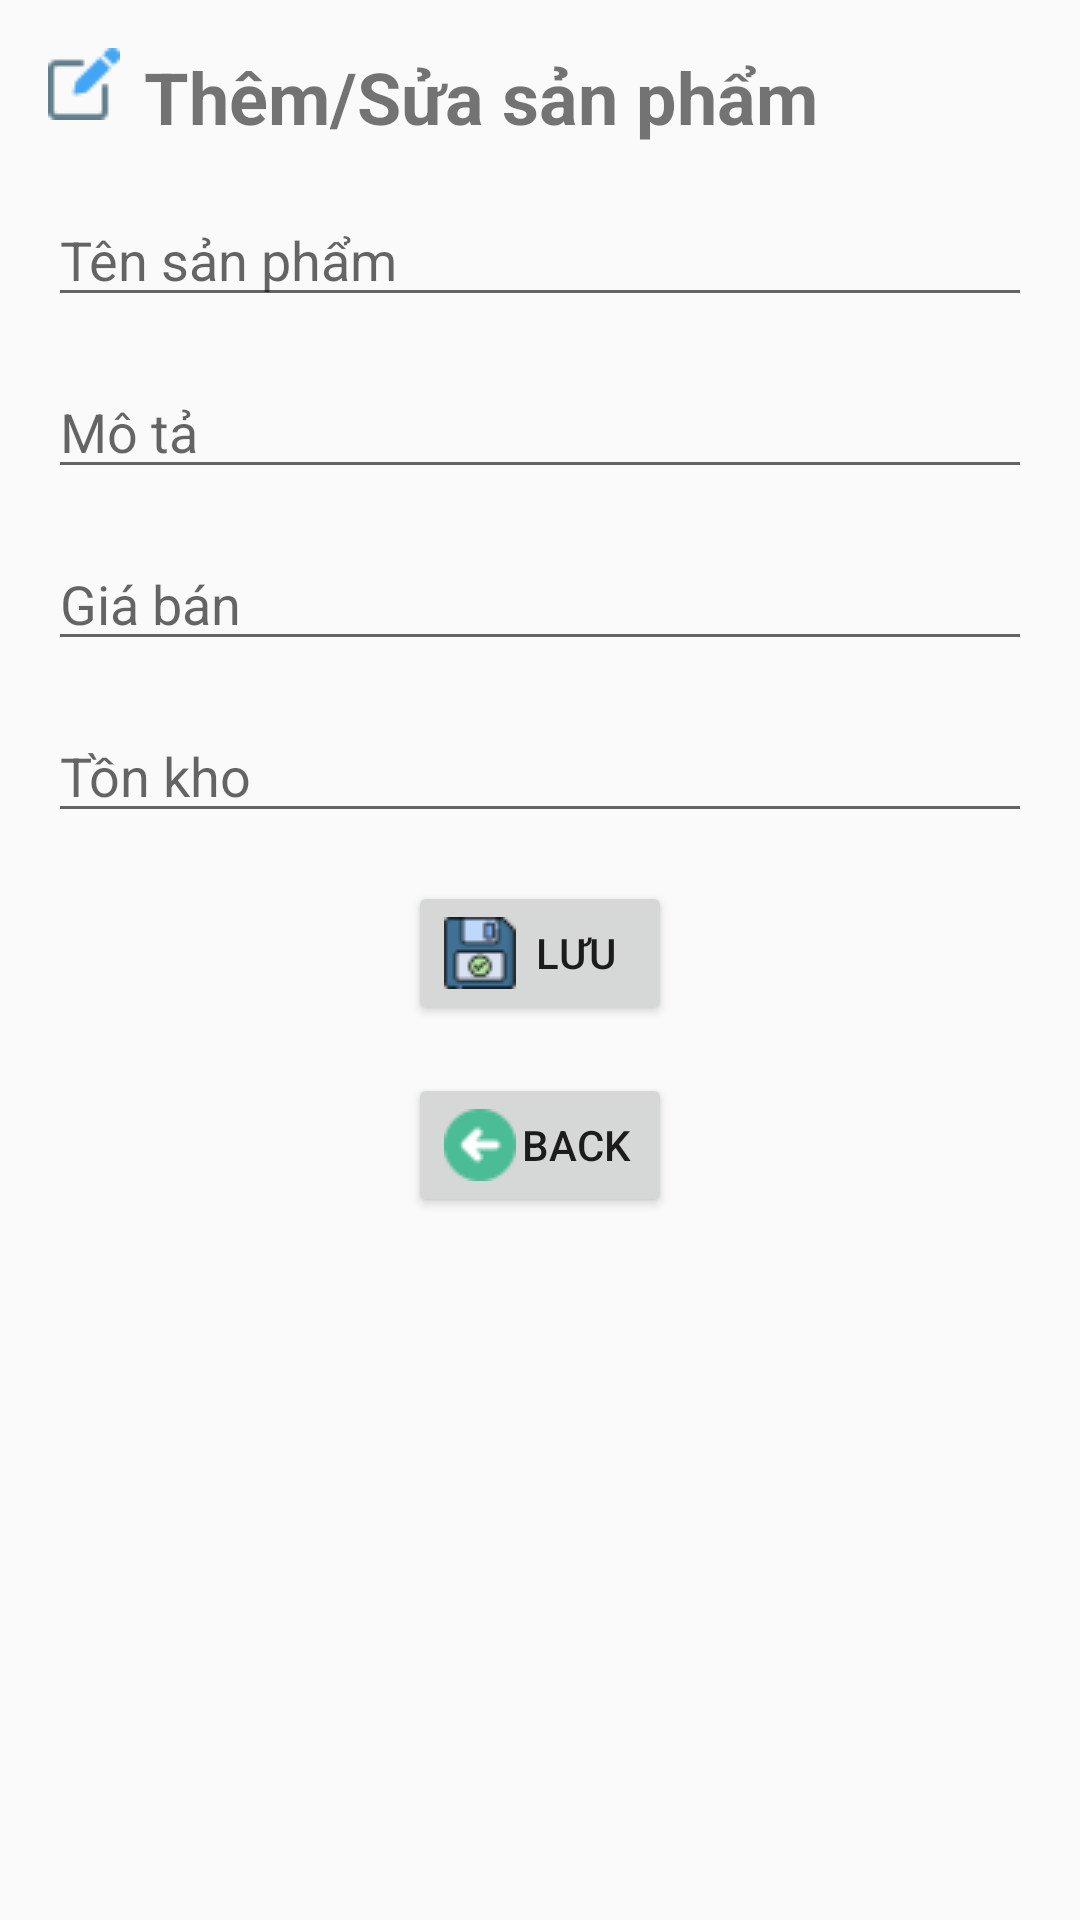

Icons on this 1080 × 1920 Android screen, each with the point to tap as (x,y):
edit: (84,84)
